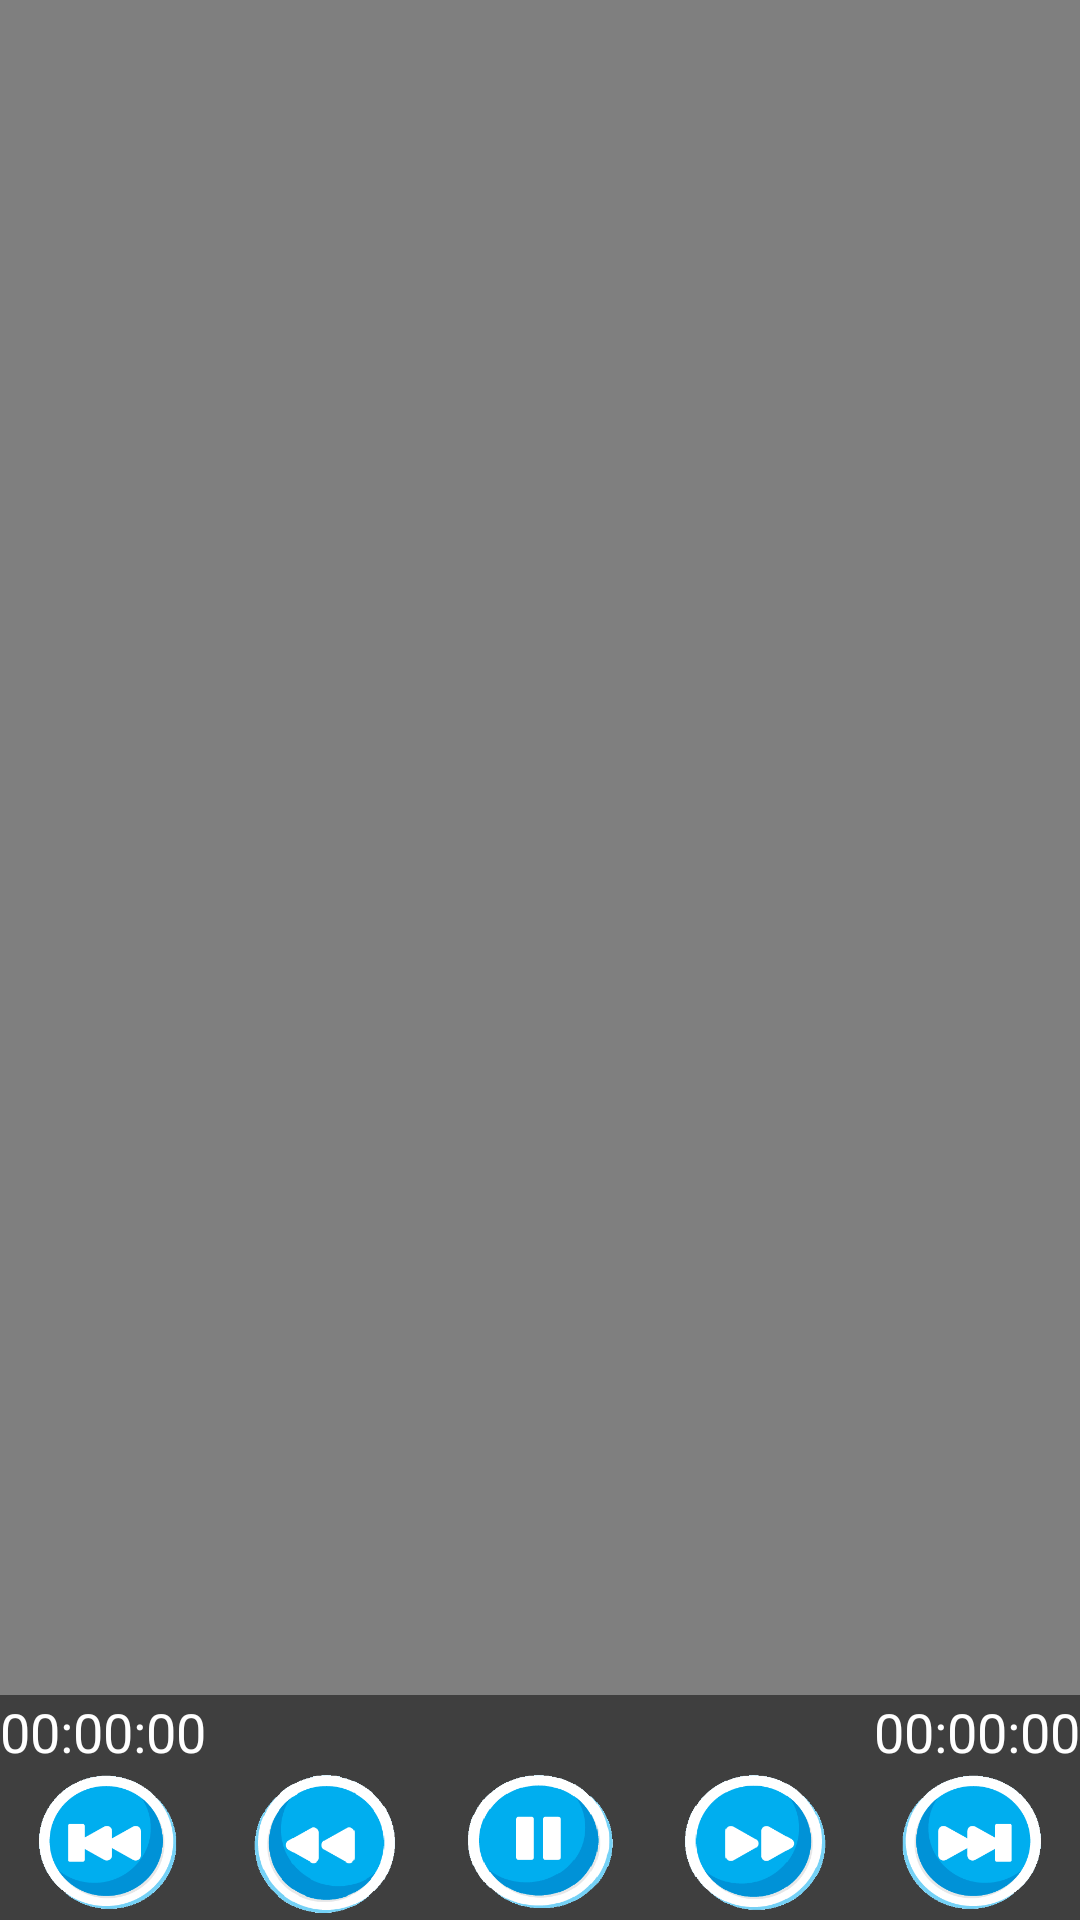

Where to tap for icons on this 1080px×1920px app screen, as (x=x, y=y):
back: (x=324, y=1844)
next: (x=971, y=1842)
pause: (x=540, y=1841)
previous: (x=107, y=1842)
